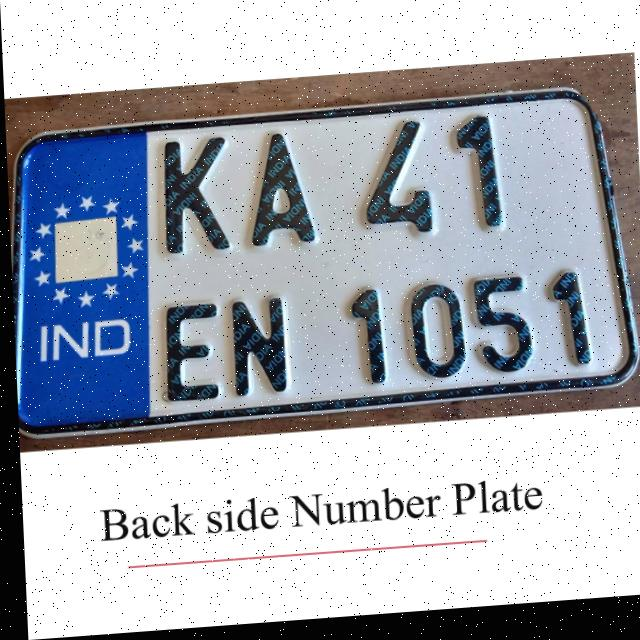plate: (5, 94, 639, 436)
